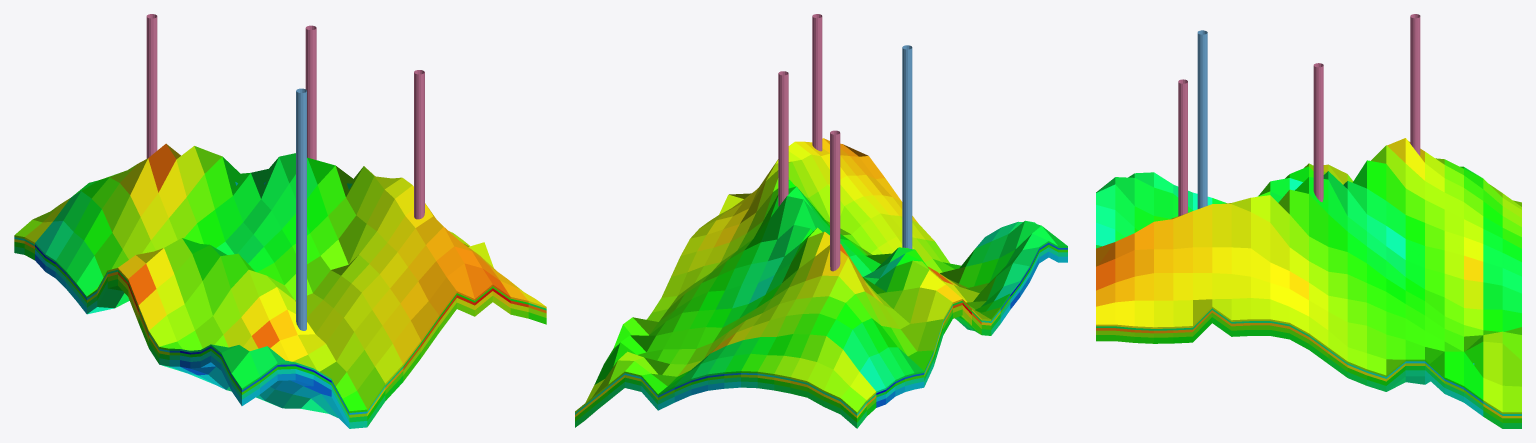
The model's file is porosity-hom-v1.glb.
3 renders of one model, left to right at view 1: azimuth 30°, elevation 25°; view 2: azimuth 150°, elevation 25°; view 3: azimuth 270°, elevation 25°, orthographic. The views are drawn at different scales.
Visible parts, largest first — view 1: reservoir, INJ, PROD-2, PROD-3, PROD-1; view 2: reservoir, INJ, PROD-2, PROD-3, PROD-1; view 3: reservoir, INJ, PROD-2, PROD-1, PROD-3.
Boxes of the visible parts, x1=… form: reservoir: x1=14, y1=143, x2=546, y2=428; INJ: x1=296, y1=88, x2=306, y2=330; PROD-2: x1=146, y1=14, x2=157, y2=158; PROD-3: x1=414, y1=70, x2=424, y2=219; PROD-1: x1=305, y1=25, x2=316, y2=159; reservoir: x1=575, y1=138, x2=1067, y2=428; INJ: x1=902, y1=45, x2=912, y2=248; PROD-2: x1=830, y1=130, x2=840, y2=271; PROD-3: x1=812, y1=14, x2=822, y2=151; PROD-1: x1=778, y1=71, x2=788, y2=206; reservoir: x1=1096, y1=138, x2=1521, y2=428; INJ: x1=1197, y1=30, x2=1207, y2=208; PROD-2: x1=1410, y1=14, x2=1420, y2=155; PROD-1: x1=1313, y1=63, x2=1323, y2=201; PROD-3: x1=1178, y1=79, x2=1187, y2=216.
Size of the model in its own units: 0.3864 by 0.4023 by 0.5.
Materials: 3 (1 with a texture image).
